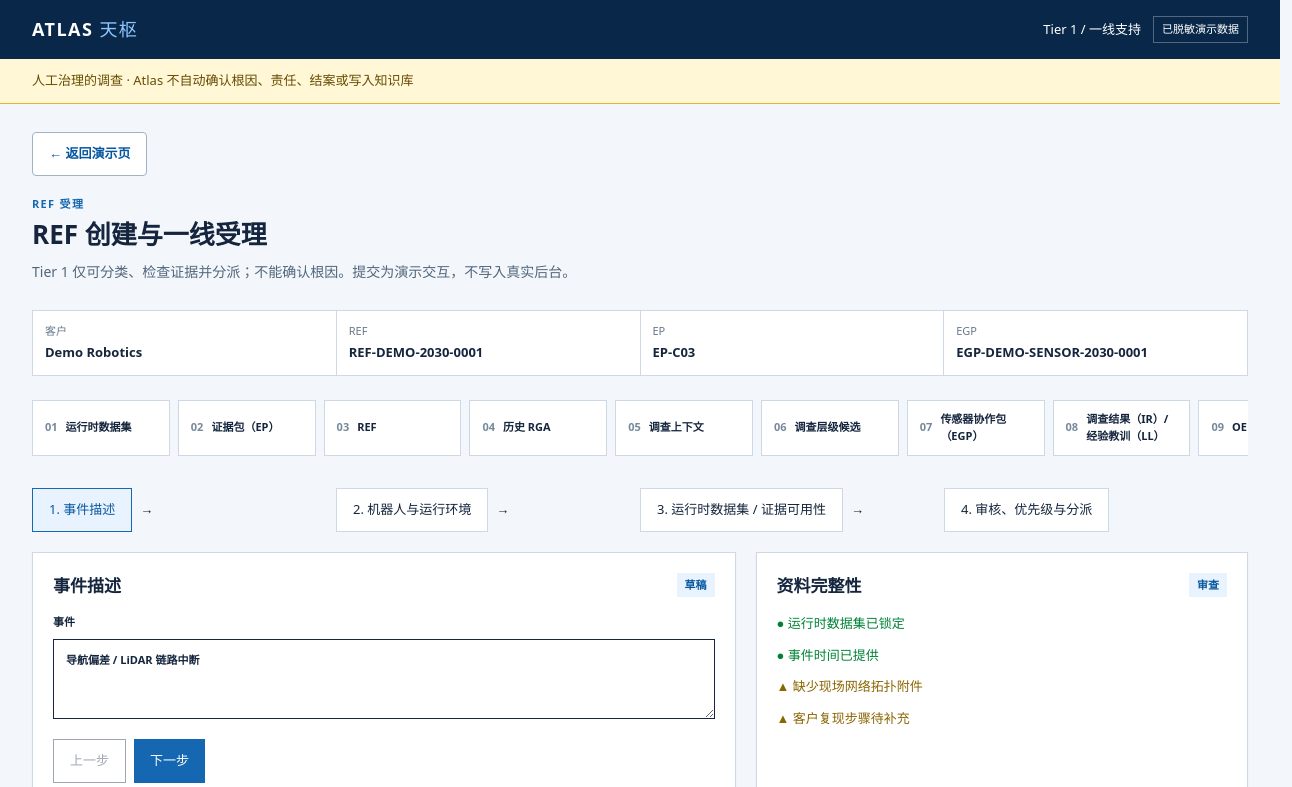
Test: Atlas V3 demo localization › navigates localized Tier 1 steps
Click the button "3. 运行时数据集 / 证据可用性" at (741,510), box [640, 488, 843, 532]
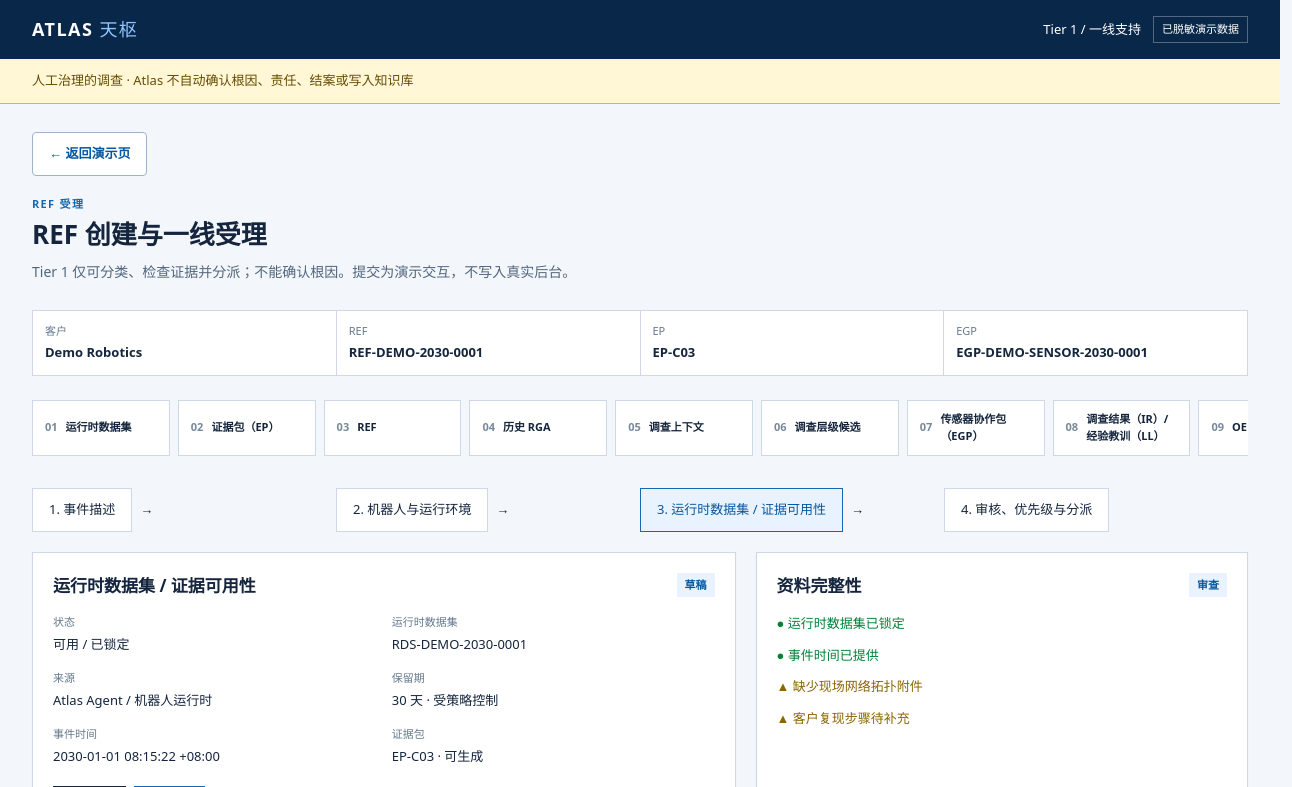
Expected: the text "RDS-DEMO-2030-0001" is shown, [392, 635, 527, 653]
